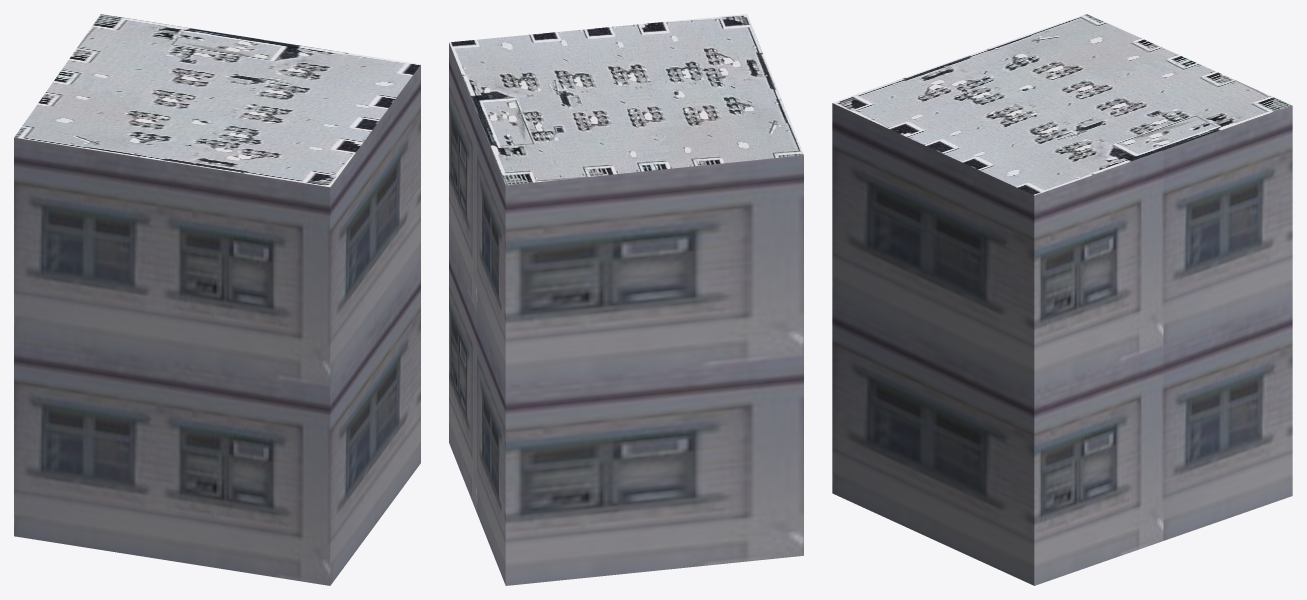
File: ResTex__3028.fbx
The picture shows the model from 3 angles, left to right: view 1: azimuth 30°, elevation 25°; view 2: azimuth 150°, elevation 25°; view 3: azimuth 270°, elevation 25°; orthographic projection. The views are drawn at different scales.
Parts seen in each view (by area): view 1: CityEngineMaterial_1_m, CityEngineMaterial_8_m; view 2: CityEngineMaterial_1_m, CityEngineMaterial_8_m; view 3: CityEngineMaterial_1_m, CityEngineMaterial_8_m.
Boxes of the visible parts, left/top/right/bottom form: CityEngineMaterial_1_m: left=14, top=65, right=420, bottom=585; CityEngineMaterial_8_m: left=14, top=14, right=420, bottom=187; CityEngineMaterial_1_m: left=449, top=43, right=803, bottom=585; CityEngineMaterial_8_m: left=449, top=14, right=803, bottom=185; CityEngineMaterial_1_m: left=832, top=103, right=1292, bottom=585; CityEngineMaterial_8_m: left=833, top=14, right=1291, bottom=195.
Bounding box in the file's own units: 5.98 × 6 × 6.41.
Materials: 2 (2 with a texture image).
